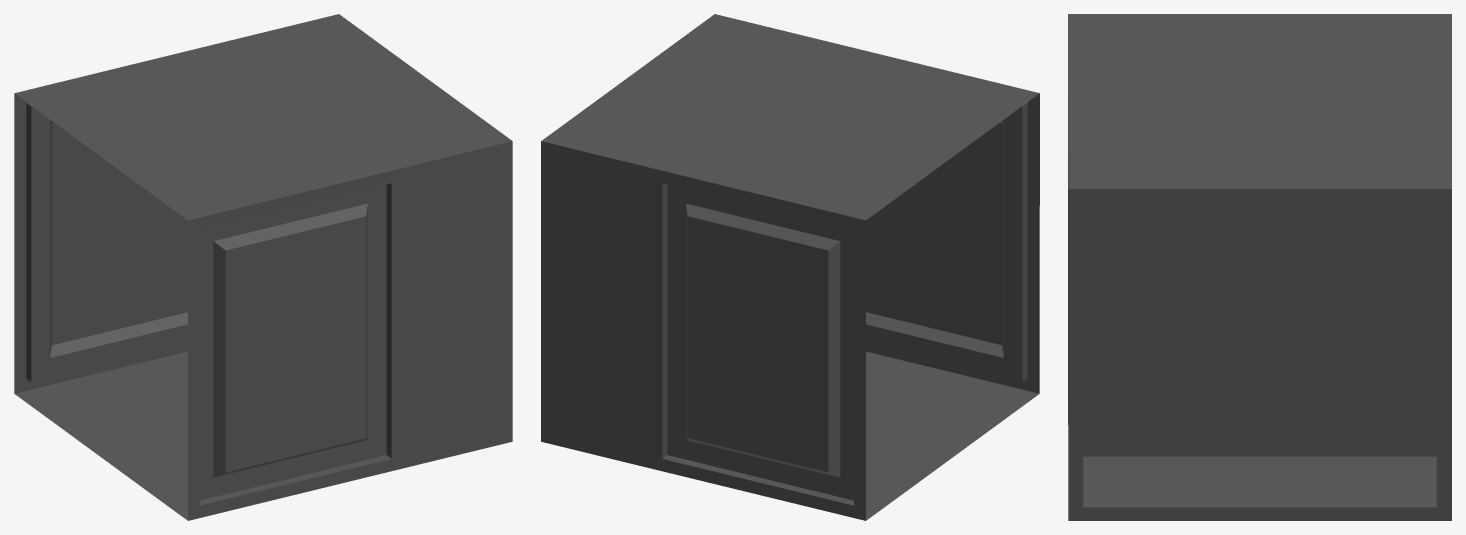
Rendered from Itr_Diningtable_Body_right_04.FBX.
The picture shows the model from 3 angles, left to right: view 1: azimuth 30°, elevation 25°; view 2: azimuth 150°, elevation 25°; view 3: azimuth 270°, elevation 25°; orthographic projection. The views are drawn at different scales.
Visible parts, largest first — view 1: Itr_Diningtable_Body_right_04; view 2: Itr_Diningtable_Body_right_04; view 3: Itr_Diningtable_Body_right_04.
Boxes of the visible parts, x1,y1,x2,y2 form: Itr_Diningtable_Body_right_04: [14, 14, 512, 520]; Itr_Diningtable_Body_right_04: [541, 14, 1039, 520]; Itr_Diningtable_Body_right_04: [1068, 14, 1451, 520].
Bounding box in the file's own units: 37.23 × 32.91 × 34.5.
